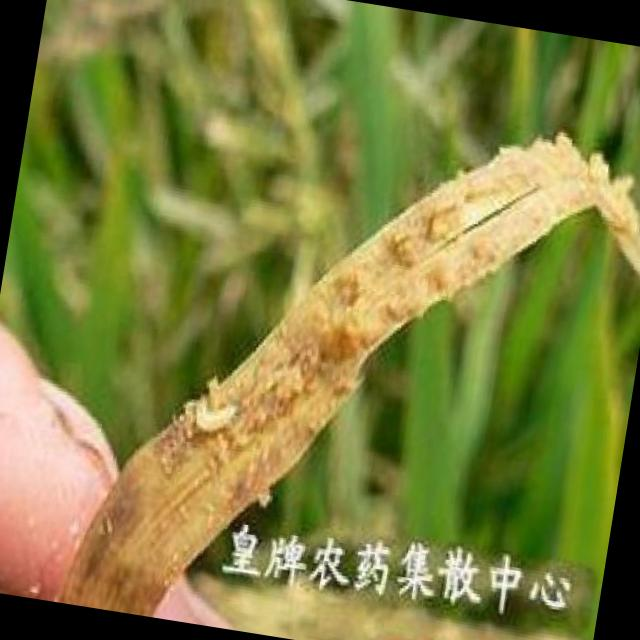whorl-maggot: (183, 390, 246, 444)
